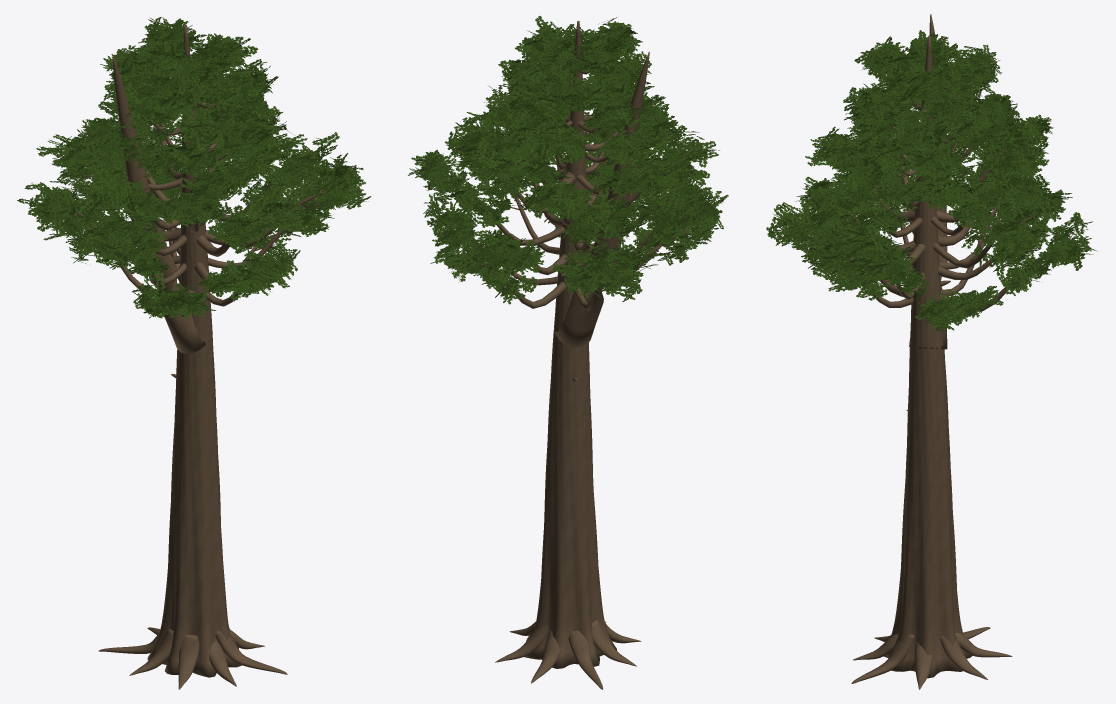
The model's file is GF2_Tree_C_OldFork_LOD0.fbx.
The picture shows the model from 3 angles, left to right: view 1: azimuth 30°, elevation 25°; view 2: azimuth 150°, elevation 25°; view 3: azimuth 270°, elevation 25°; orthographic projection. The views are drawn at different scales.
Visible parts, largest first — view 1: GF2_Tree_C_OldFork.001; view 2: GF2_Tree_C_OldFork.001; view 3: GF2_Tree_C_OldFork.001.
Boxes of the visible parts, x1,y1,x2,y2 form: GF2_Tree_C_OldFork.001: (17, 17, 371, 689); GF2_Tree_C_OldFork.001: (408, 16, 728, 689); GF2_Tree_C_OldFork.001: (766, 14, 1097, 689).
Bounding box in the file's own units: 53.22 × 114 × 57.04.
Materials: 2 (2 with a texture image).
